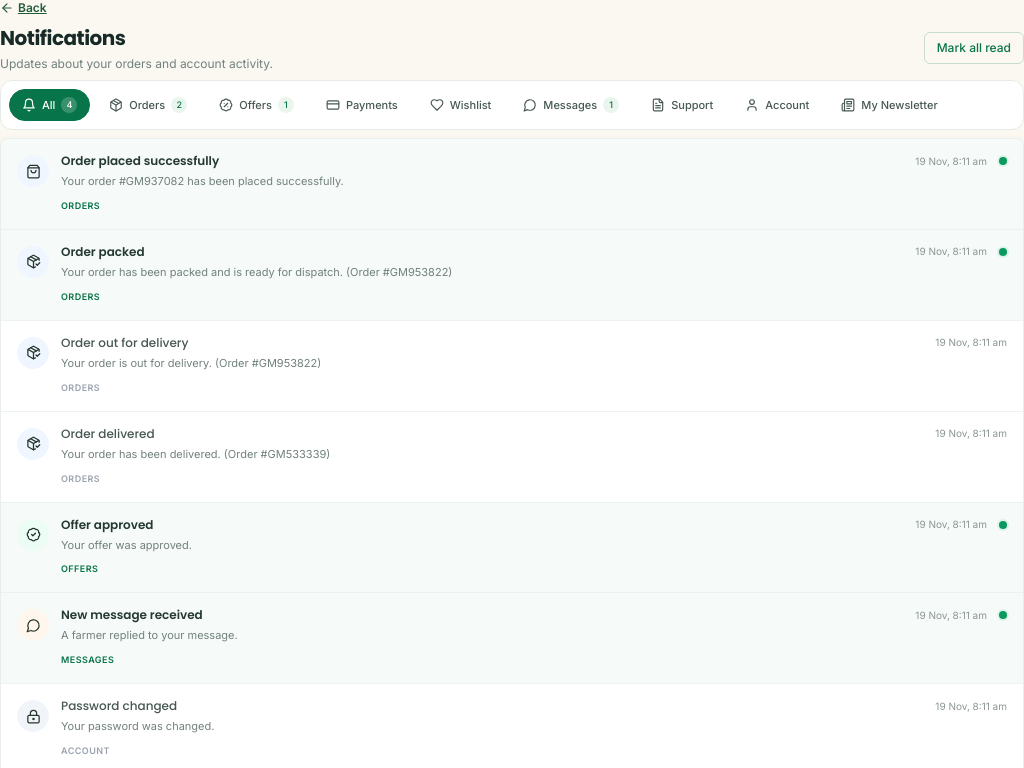
Test: Customer Notification Centre › payments, wishlist, messages, support and account filters work
Check: the heading "Order placed successfully" is shown, box [61,153,219,169]
Step 1. Click the button "Messages 1" → [571, 105], box [510,89,632,121]
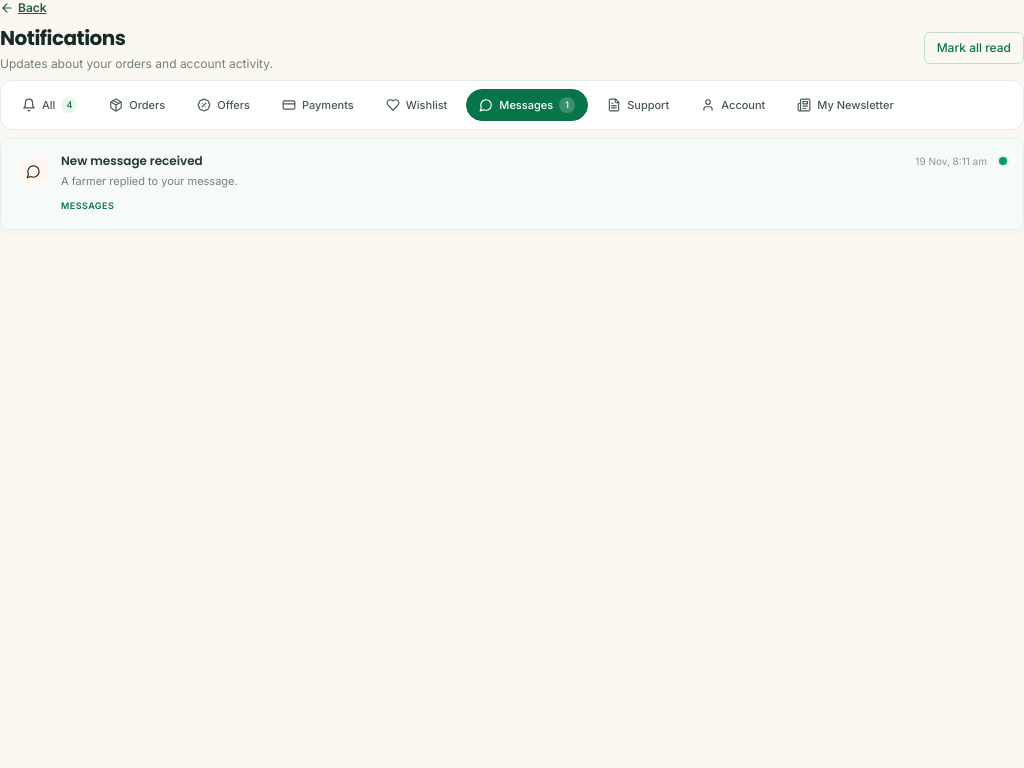
Check: the heading "New message received" is shown, box [61,153,203,169]
Step 2. Click the button "Account" → [733, 105], box [688,89,778,121]
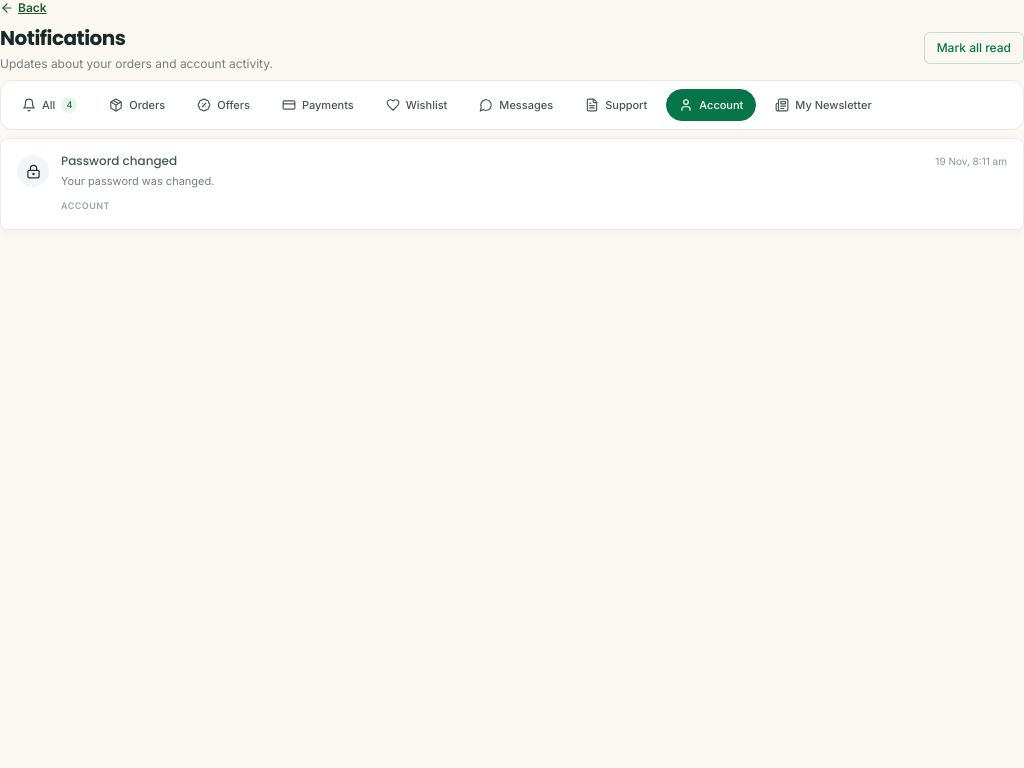
Check: the heading "Password changed" is shown, box [61,153,177,169]
